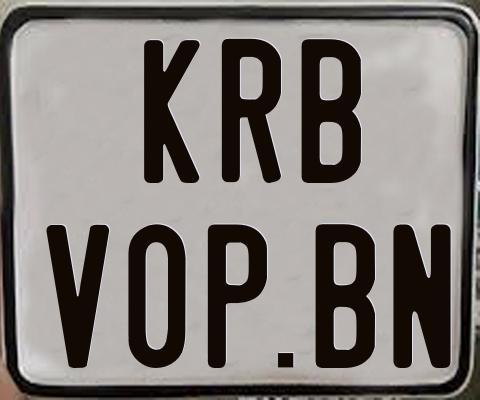0: (128, 224, 192, 374)
B: (299, 39, 365, 187), (315, 223, 375, 367)
K: (142, 37, 199, 183)
N: (392, 223, 455, 370)
P: (207, 223, 268, 369)
R: (221, 36, 282, 186)
V: (45, 225, 112, 371)
